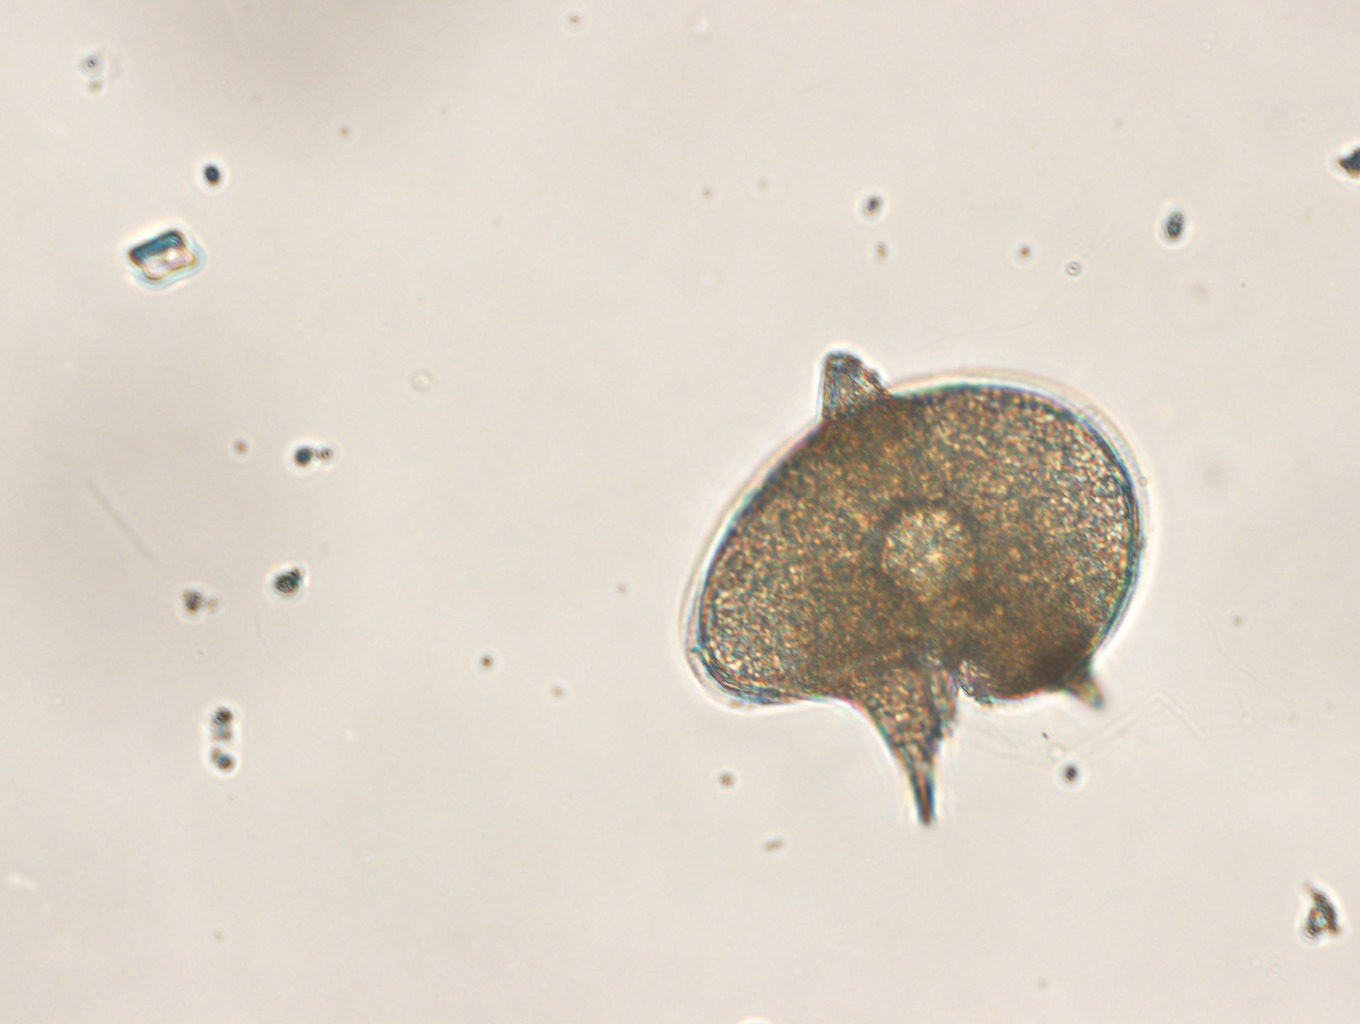protoperidinium: (690, 350, 1140, 822)
